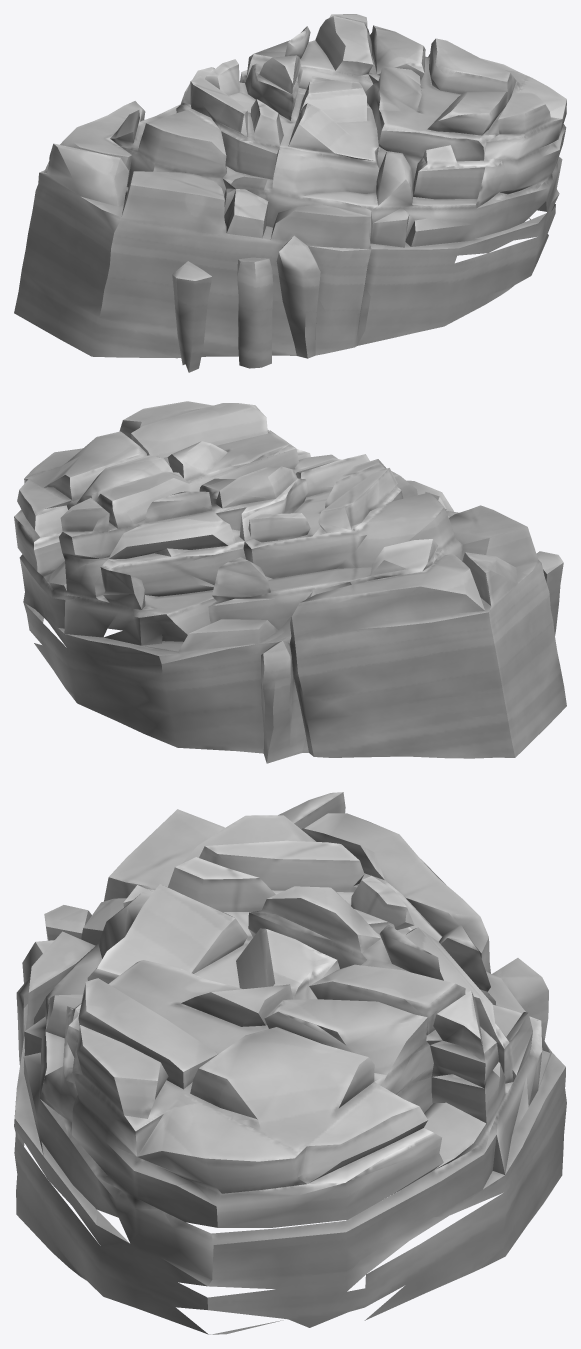
File: sculpted_outcrop_04.glb
3 renders of one model, top to bottom at view 1: azimuth 30°, elevation 25°; view 2: azimuth 150°, elevation 25°; view 3: azimuth 270°, elevation 25°, orthographic. The views are drawn at different scales.
Visible parts, largest first — view 1: sculpted_outcrop_04; view 2: sculpted_outcrop_04; view 3: sculpted_outcrop_04.
Part boxes in pixels (x1=…): sculpted_outcrop_04: x1=14, y1=14, x2=566, y2=372; sculpted_outcrop_04: x1=14, y1=401, x2=566, y2=763; sculpted_outcrop_04: x1=14, y1=792, x2=566, y2=1334.
Size of the model in its own units: 13.07 by 5.08 by 8.83.
Materials: 1 (1 with a texture image).
